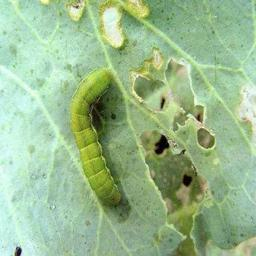Tobacco_budworm: (64, 66, 122, 206)
